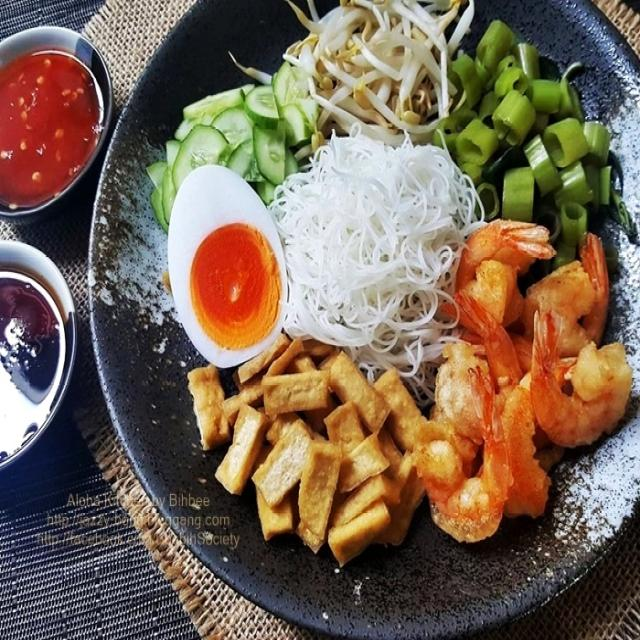Carbohydrate: (273, 118, 472, 350)
Protein: (430, 223, 629, 535), (178, 340, 432, 557)
Taokua: (88, 2, 640, 636)
Vegetable: (154, 2, 616, 232)
